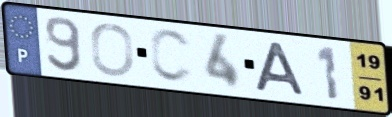1: (315, 45, 342, 103)
4: (201, 30, 244, 94)
9: (42, 15, 82, 74)
A: (253, 40, 308, 97)
C: (147, 27, 196, 86)
O: (88, 21, 136, 78)
